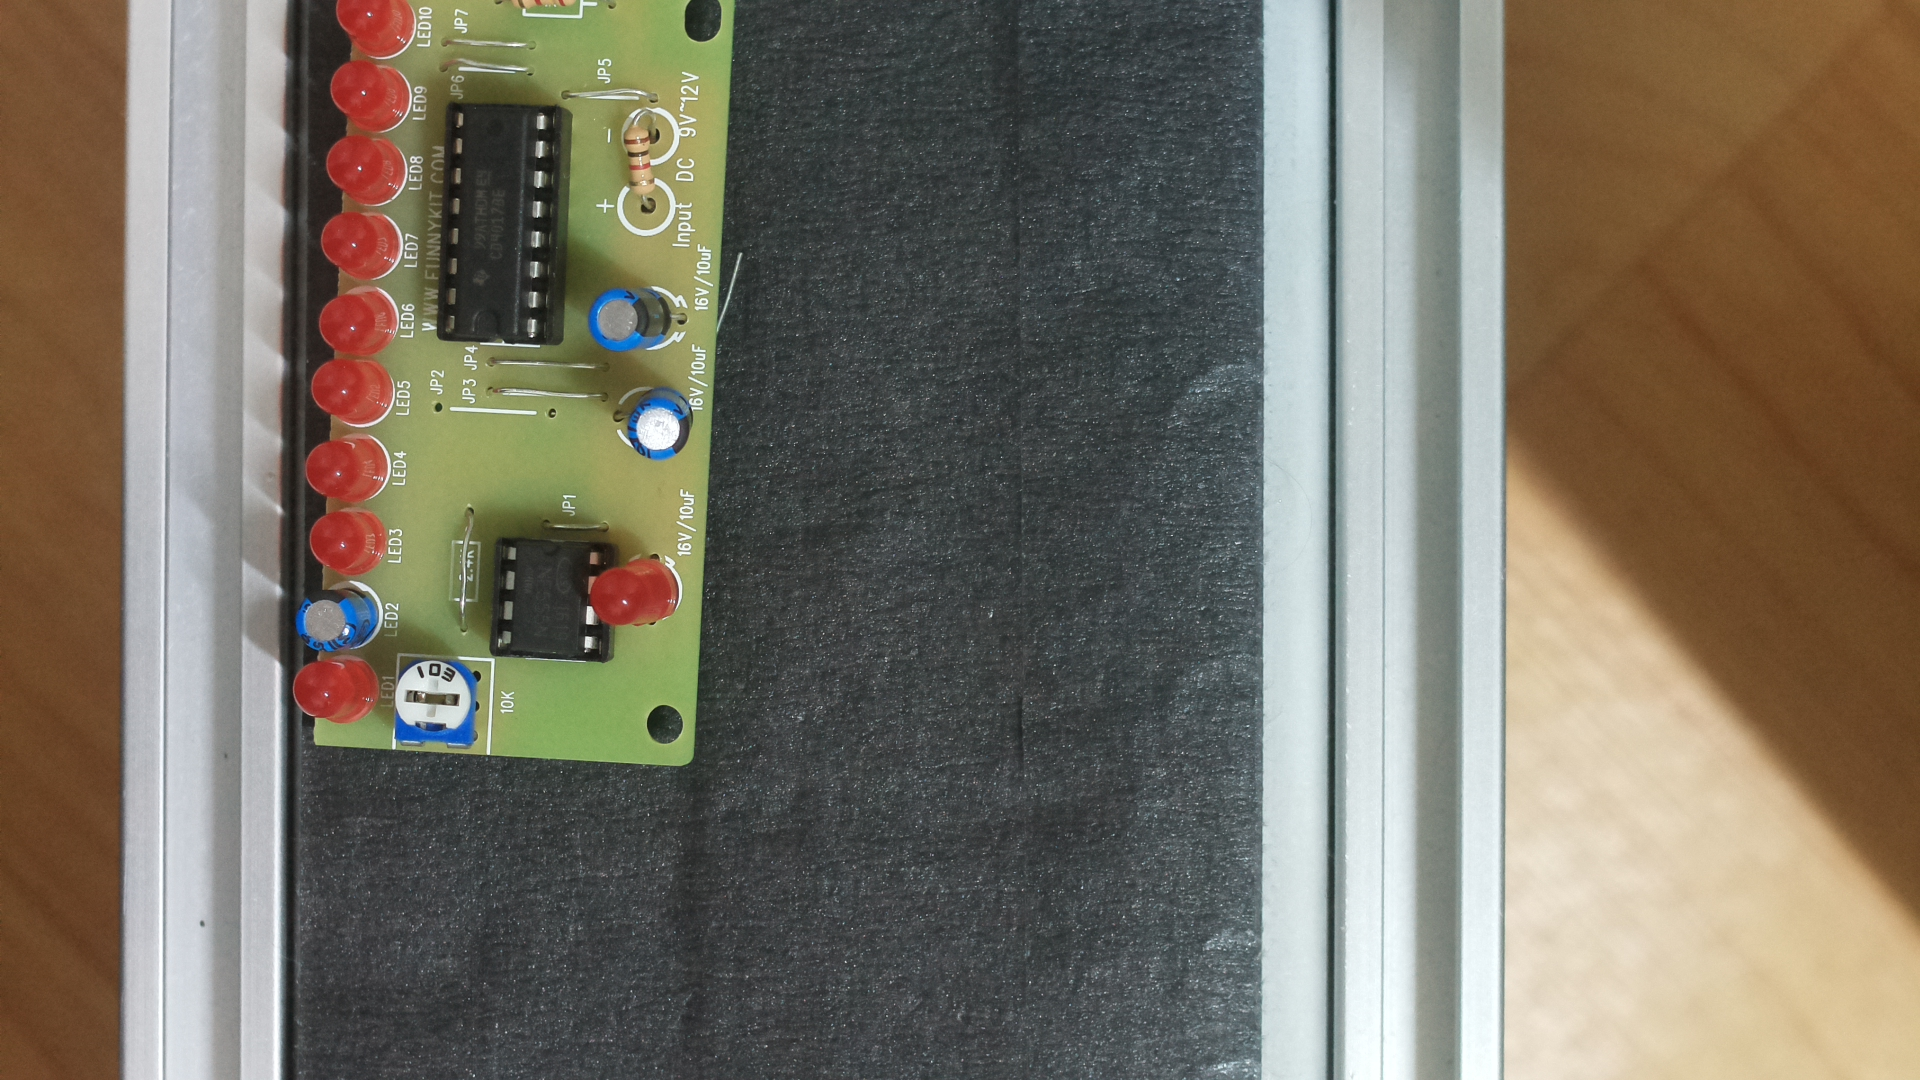B_Misordered: (280, 0, 747, 784)
